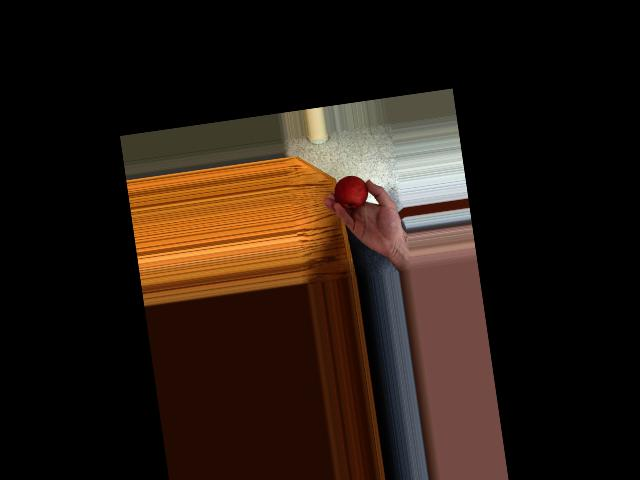apple: (332, 172, 376, 212)
